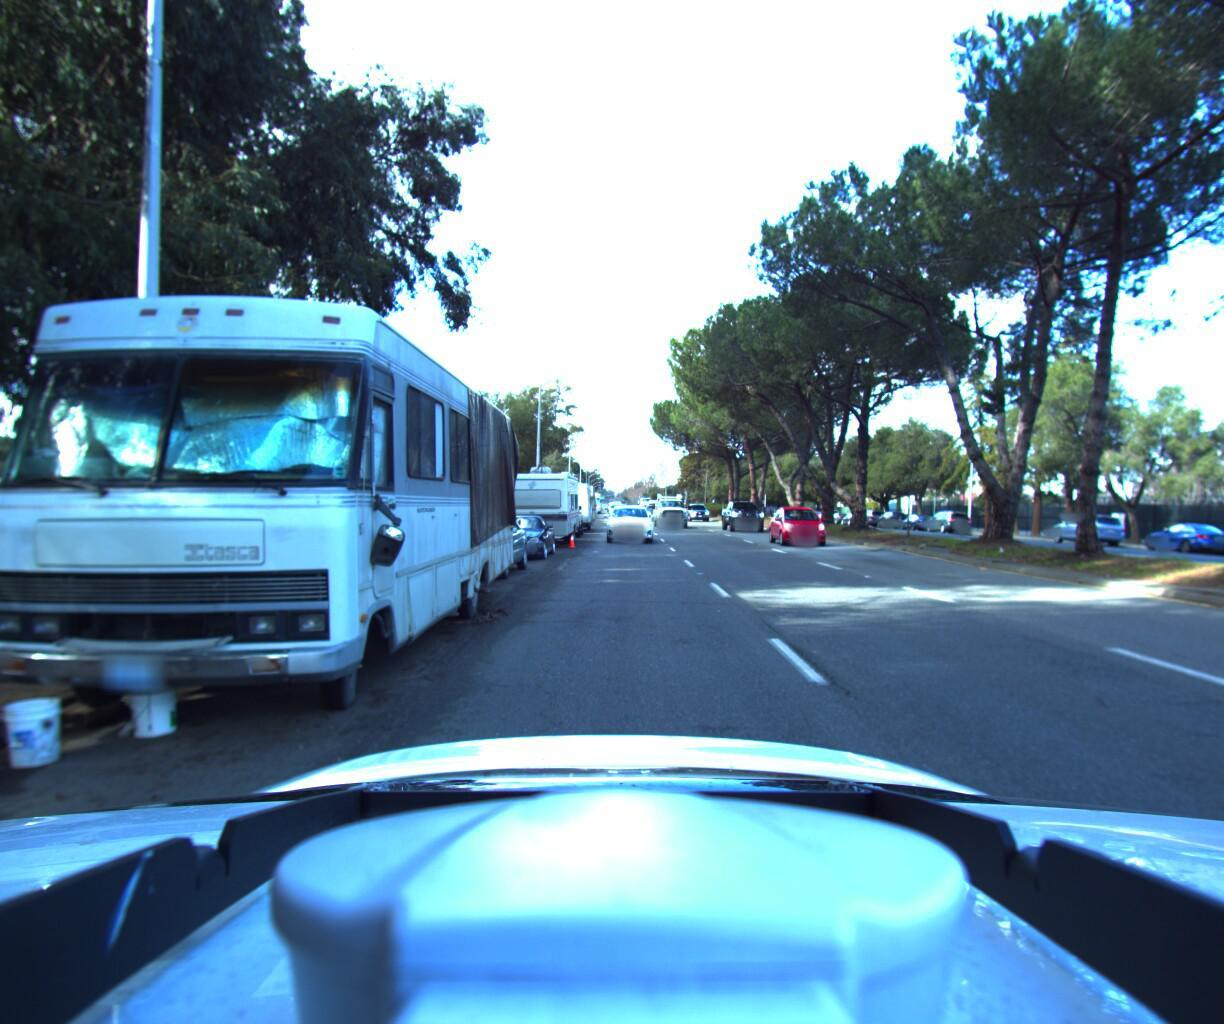car: (408, 511, 528, 588), (476, 514, 555, 564), (1131, 518, 1224, 557), (1044, 510, 1133, 547), (772, 501, 840, 546), (604, 502, 654, 544), (722, 499, 770, 533), (650, 491, 687, 528), (921, 508, 974, 534), (855, 507, 888, 526), (687, 500, 713, 521)
other_vehicle: (0, 218, 521, 776), (486, 470, 579, 553), (534, 481, 590, 535), (559, 485, 595, 526)
